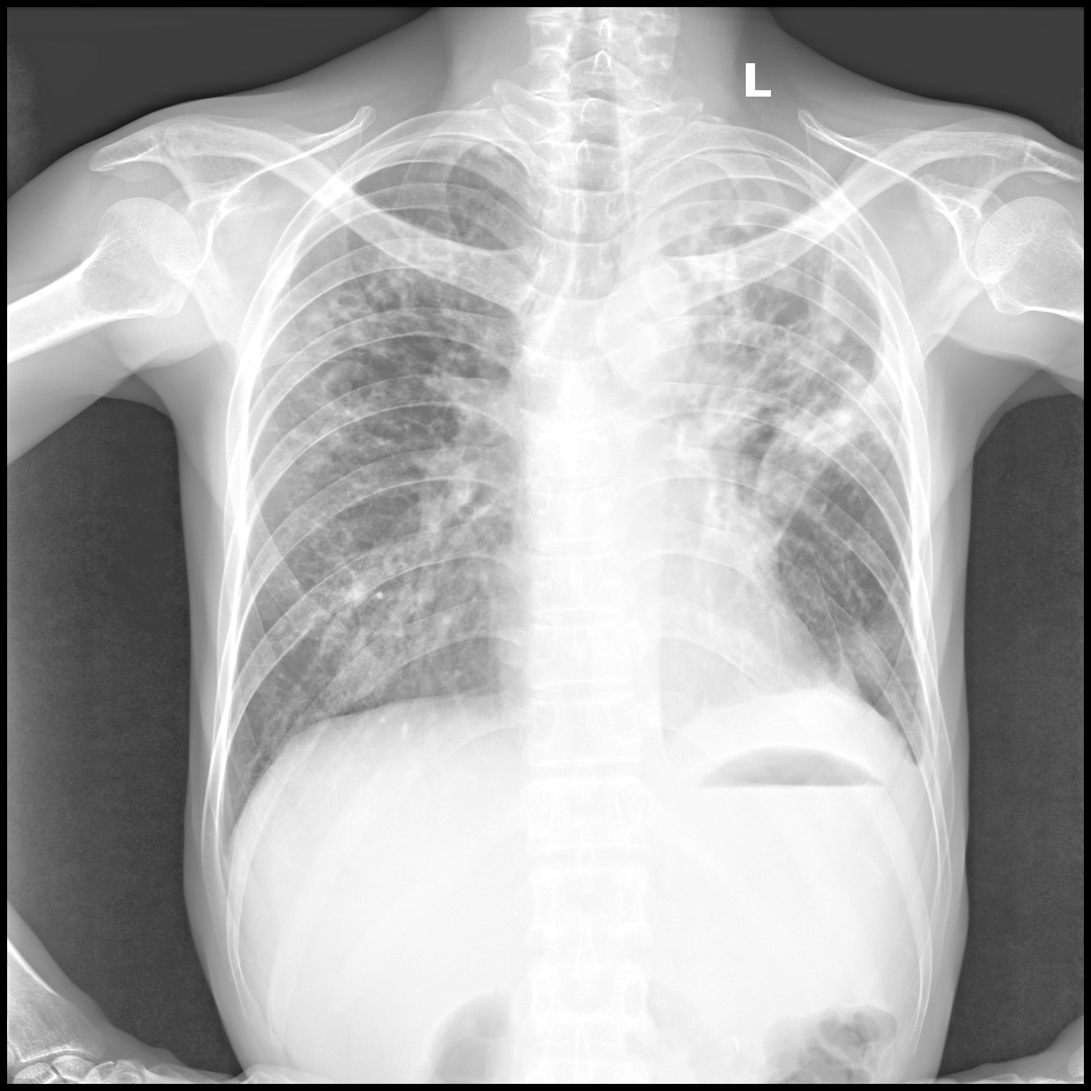Pleural thickening: (810, 573, 859, 715)
Pulmonary fibrosis: (691, 217, 890, 532)
